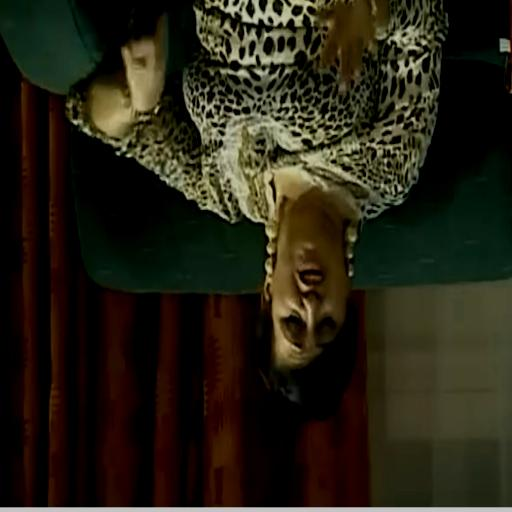jannet: (262, 213, 356, 367)
